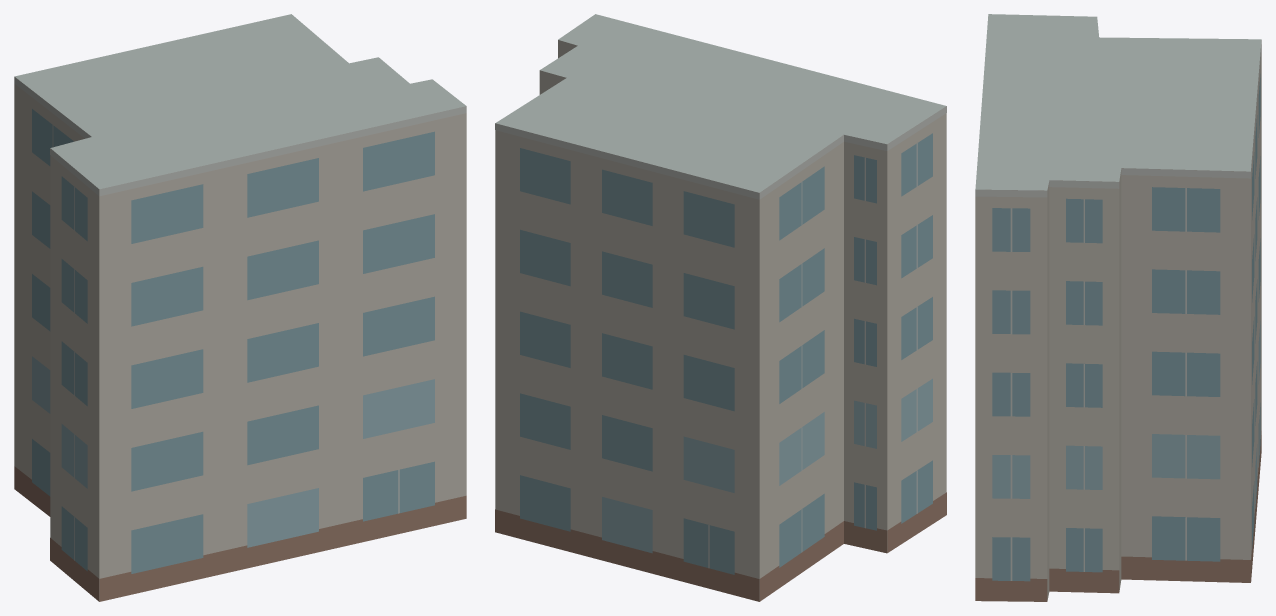
Rendered from survey-upis-32988961.glb.
3 views of the same model, side by side, from view 1: azimuth 30°, elevation 25°; view 2: azimuth 150°, elevation 25°; view 3: azimuth 270°, elevation 25° (orthographic).
Visible parts, largest first — view 1: survey-upis-32988961.tmp; view 2: survey-upis-32988961.tmp; view 3: survey-upis-32988961.tmp.
Part boxes in pixels (left/top/right/bottom): survey-upis-32988961.tmp: left=14, top=14, right=466, bottom=601; survey-upis-32988961.tmp: left=495, top=14, right=946, bottom=601; survey-upis-32988961.tmp: left=975, top=14, right=1261, bottom=601.
Size of the model in its own units: 13.26 by 14.4 by 9.09.
